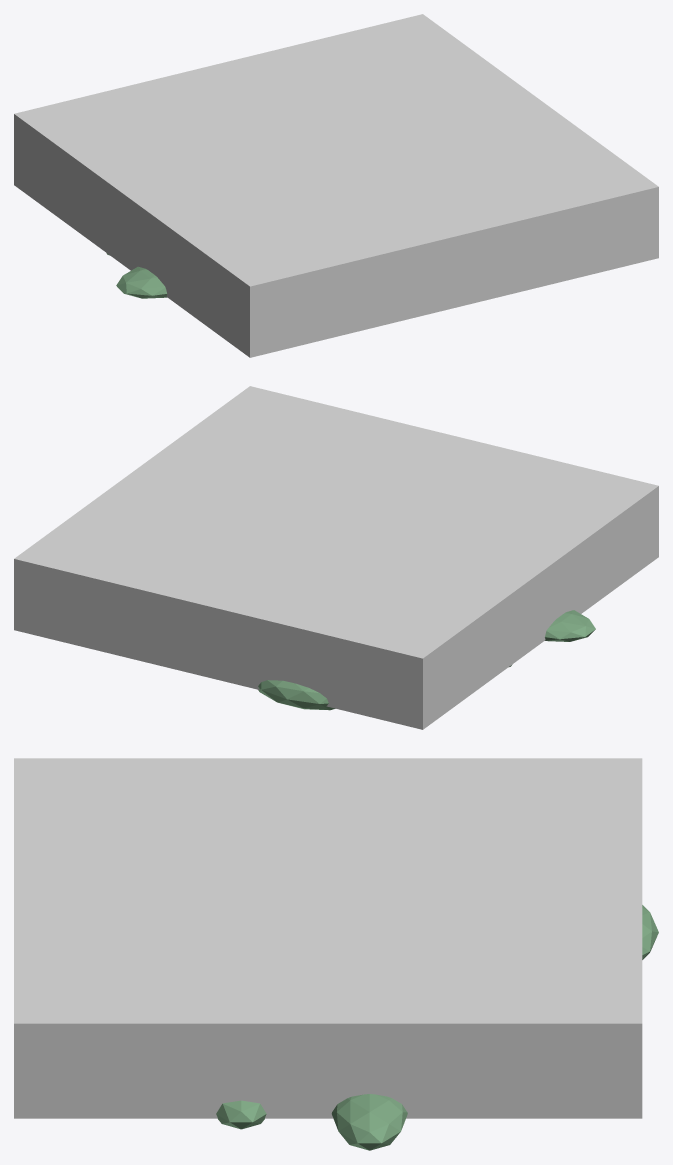
Rendered from mekong.glb.
The picture shows the model from 3 angles, top to bottom: view 1: azimuth 30°, elevation 25°; view 2: azimuth 150°, elevation 25°; view 3: azimuth 270°, elevation 25°; orthographic projection. The views are drawn at different scales.
Visible parts, largest first — view 1: HazeBox, bg_hill.008; view 2: HazeBox, bg_hill.005, bg_hill.008; view 3: HazeBox, bg_hill.001, bg_hill, bg_hill.005.
Part boxes in pixels (x1,y1,x2,y2): HazeBox: (14, 14, 658, 357); bg_hill.008: (116, 266, 167, 298); HazeBox: (14, 386, 658, 729); bg_hill.005: (258, 680, 335, 710); bg_hill.008: (545, 610, 595, 641); HazeBox: (14, 758, 642, 1118); bg_hill.001: (331, 1094, 407, 1150); bg_hill: (216, 1100, 266, 1129); bg_hill.005: (642, 905, 658, 959).
Size of what is drawn, in the model's own units: 284 by 48.76 by 246.
